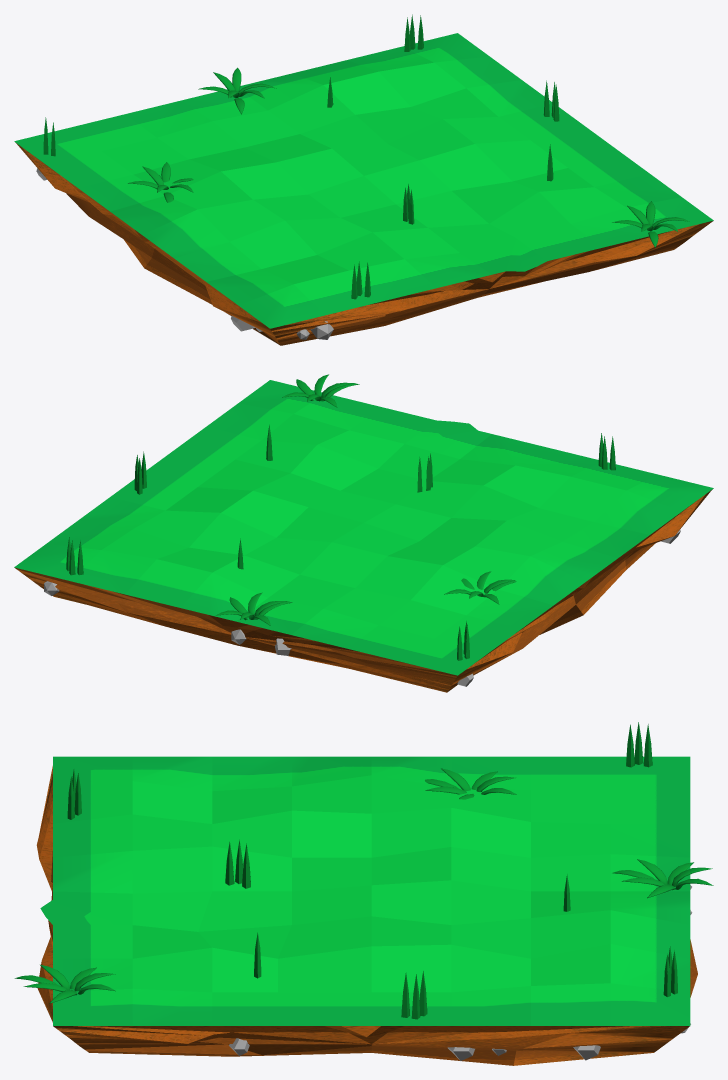
The model's file is grassvariation2.fbx.
3 views of the same model, one above another, from view 1: azimuth 30°, elevation 25°; view 2: azimuth 150°, elevation 25°; view 3: azimuth 270°, elevation 25° (orthographic). The views are drawn at different scales.
Parts seen in each view (by area): view 1: pCube1, GrassesGRPpolySurface493, GrassesGRPpolySurface482, GrassesGRPpolySurface494; view 2: pCube1, GrassesGRPpolySurface482, GrassesGRPpolySurface493, GrassesGRPpolySurface494; view 3: pCube1, GrassesGRPpolySurface482, GrassesGRPpolySurface493, GrassesGRPpolySurface494.
Boxes of the visible parts, x1,y1,x2,y2 form: pCube1: [14, 33, 713, 345]; GrassesGRPpolySurface493: [198, 67, 276, 114]; GrassesGRPpolySurface482: [612, 201, 689, 247]; GrassesGRPpolySurface494: [128, 162, 193, 202]; pCube1: [14, 380, 713, 692]; GrassesGRPpolySurface482: [282, 374, 359, 407]; GrassesGRPpolySurface493: [216, 592, 292, 625]; GrassesGRPpolySurface494: [444, 571, 516, 604]; pCube1: [36, 756, 697, 1065]; GrassesGRPpolySurface482: [14, 964, 115, 1003]; GrassesGRPpolySurface493: [612, 859, 713, 898]; GrassesGRPpolySurface494: [425, 768, 516, 799].
Size of the model in its own units: 101 by 14.79 by 108.
4 materials, 2 textured.
